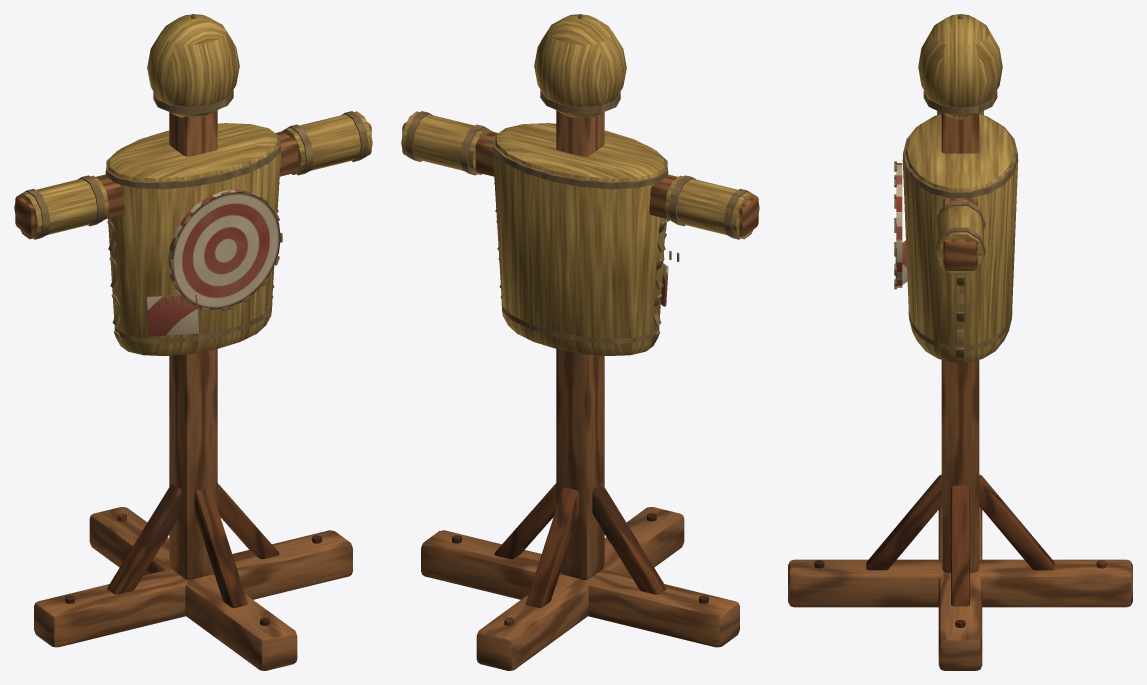
The model's file is dummy.glb.
3 views of the same model, side by side, from view 1: azimuth 30°, elevation 25°; view 2: azimuth 150°, elevation 25°; view 3: azimuth 270°, elevation 25° (orthographic).
Parts seen in each view (by area): view 1: Dummy_Body, Dummy_Target; view 2: Dummy_Body; view 3: Dummy_Body, Dummy_Target.
Boxes of the visible parts, <box> form: Dummy_Body: <box>14,14,372,670</box>; Dummy_Target: <box>168,189,282,311</box>; Dummy_Body: <box>401,14,759,670</box>; Dummy_Body: <box>788,14,1132,670</box>; Dummy_Target: <box>894,161,902,289</box>.
Bounding box in the file's own units: 1.25 × 2.06 × 1.1.
Materials: 5 (5 with a texture image).
